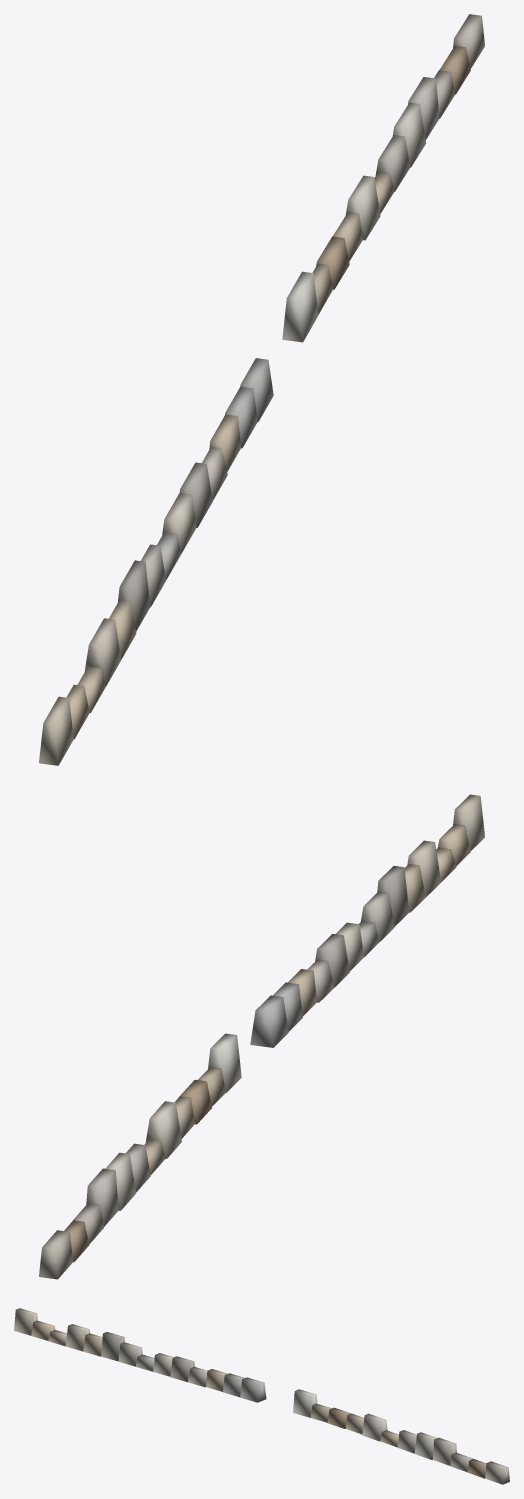
File: farm_-39_-31_collision.glb
3 renders of one model, top to bottom at view 1: azimuth 30°, elevation 25°; view 2: azimuth 210°, elevation 25°; view 3: azimuth 270°, elevation 25°, orthographic. The views are drawn at different scales.
Parts seen in each view (by area): view 1: geometry_0; view 2: geometry_0; view 3: geometry_0.
Boxes of the visible parts, bbox=[...] form: geometry_0: bbox=[39, 14, 484, 765]; geometry_0: bbox=[39, 794, 484, 1279]; geometry_0: bbox=[14, 1308, 509, 1484].
Bounding box in the file's own units: 32.32 × 5.62 × 29.94.
